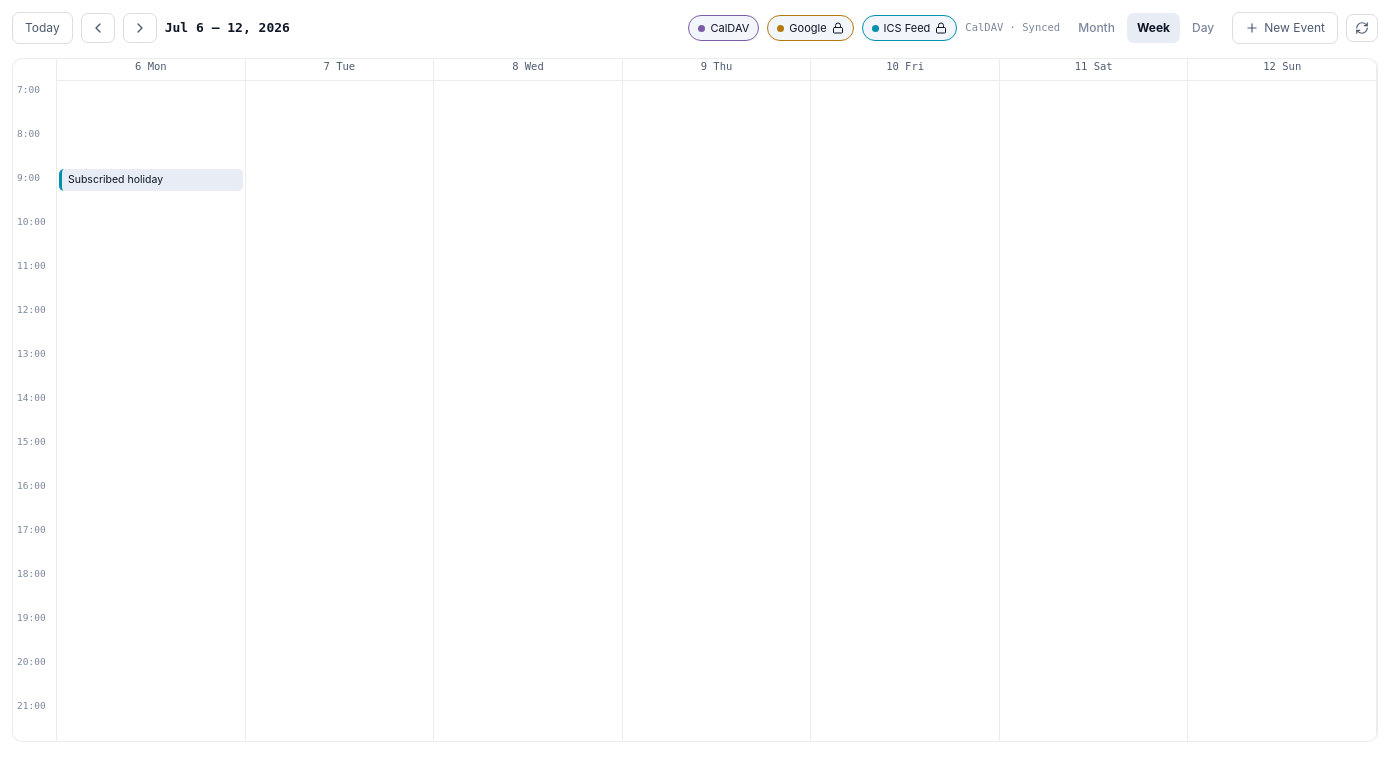
CalendarPanel — 4 states + view switch + source chips + drawer › drawer: clicking a read-only (ics) event shows the read-only badge + duplicate-to-edit note, no Delete
Step 1. Click the button "Subscribed holiday" → (151, 180), box [59,169,243,191]
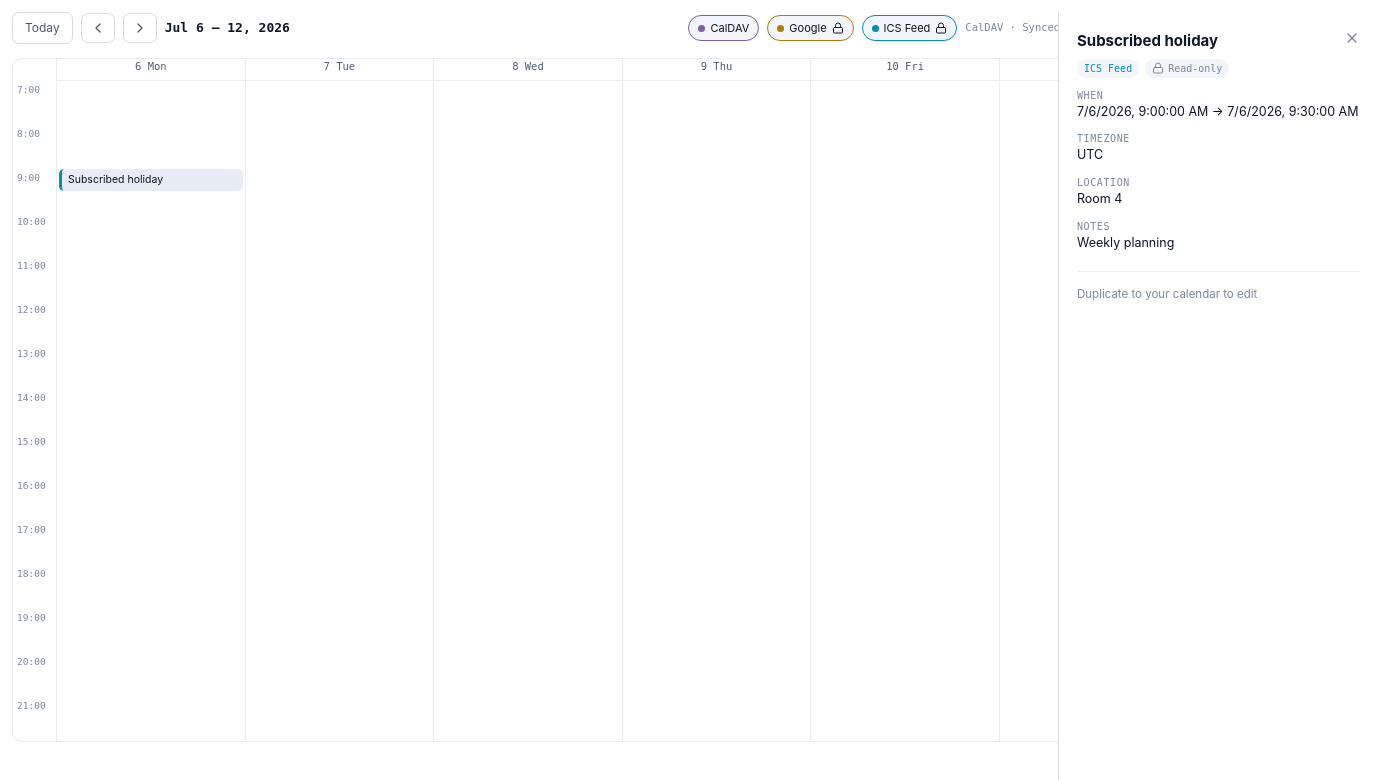
Expected: the text "Read-only" is shown, [1145,58,1229,78]
Expected: the text "Duplicate to your calendar to edit" is shown, [1077,286,1257,300]
